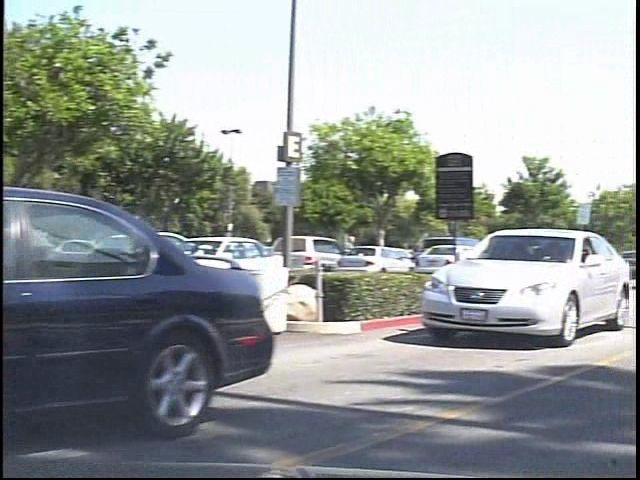person: (348, 229, 375, 280)
